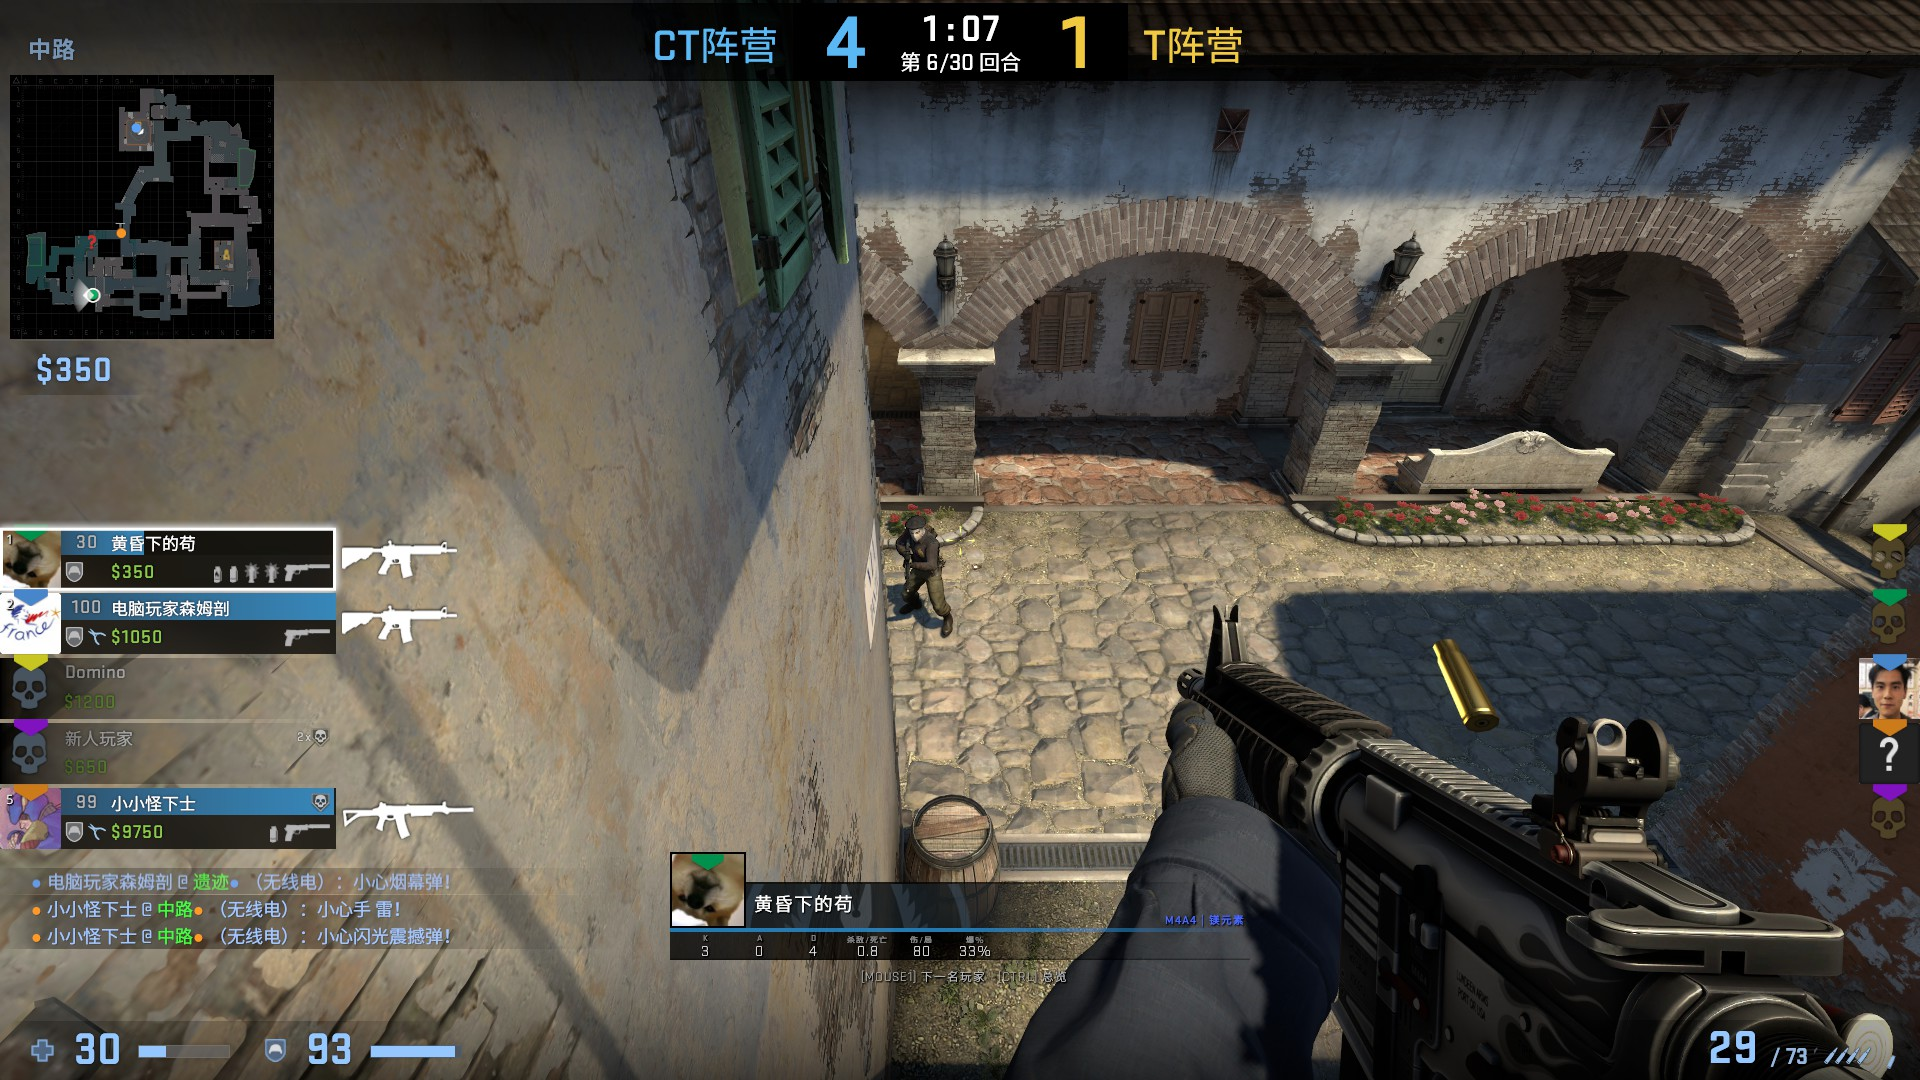head: (903, 515, 928, 543)
